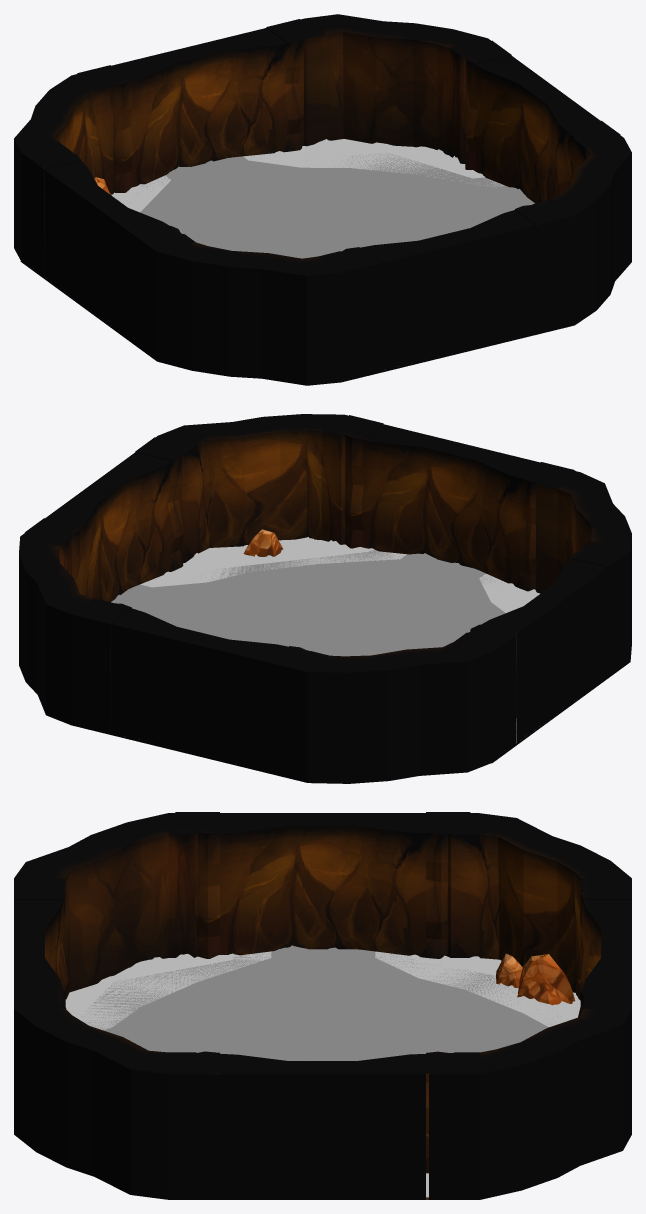
File: Dungeon_062_StartRoom_001_003.fbx
The picture shows the model from 3 angles, top to bottom: view 1: azimuth 30°, elevation 25°; view 2: azimuth 150°, elevation 25°; view 3: azimuth 270°, elevation 25°; orthographic projection. The views are drawn at different scales.
Visible parts, largest first — view 1: Dun_062_StartRoom_001_wall, Dun_062_Door_002 (×4), Dun_062_StartRoom_001_Nav, Dun_062_StartRoom_001_shadow; view 2: Dun_062_Door_002 (×4), Dun_062_StartRoom_001_wall, Dun_062_StartRoom_001_Nav, Dun_062_StartRoom_001_shadow, Dun_062_Object_100; view 3: Dun_062_StartRoom_001_wall, Dun_062_Door_002 (×4), Dun_062_StartRoom_001_Nav, Dun_062_StartRoom_001_shadow, Dun_062_Object_100.
Part boxes in pixels (x1,y1,x2,y2): Dun_062_StartRoom_001_wall: (14, 14, 631, 385); Dun_062_Door_002 (×4): (26, 19, 620, 372); Dun_062_StartRoom_001_Nav: (135, 153, 534, 258); Dun_062_StartRoom_001_shadow: (111, 139, 503, 212); Dun_062_Door_002 (×4): (25, 415, 627, 773); Dun_062_StartRoom_001_wall: (19, 414, 631, 783); Dun_062_StartRoom_001_Nav: (111, 549, 516, 720); Dun_062_StartRoom_001_shadow: (140, 537, 540, 742); Dun_062_Object_100: (243, 529, 283, 556); Dun_062_StartRoom_001_wall: (14, 813, 631, 1199); Dun_062_Door_002 (×4): (14, 812, 631, 1199); Dun_062_StartRoom_001_Nav: (81, 945, 561, 1060); Dun_062_StartRoom_001_shadow: (65, 951, 580, 1197); Dun_062_Object_100: (496, 953, 574, 1005).
Bounding box in the file's own units: 9 × 2.04 × 9.
